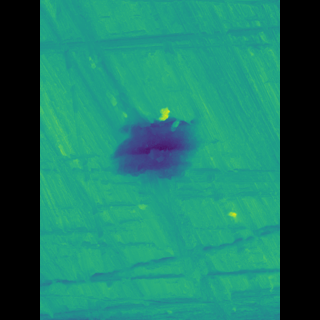Loch: (71, 0, 131, 318), (118, 102, 196, 184), (69, 21, 250, 55)
